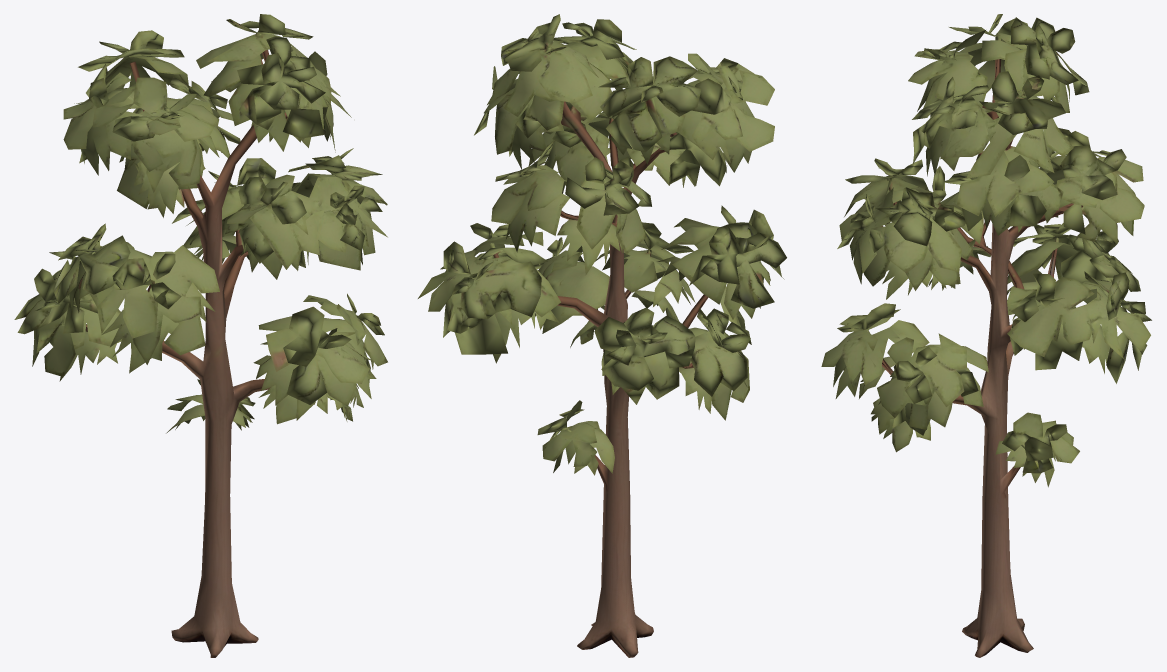
3 views of the same model, side by side, from view 1: azimuth 30°, elevation 25°; view 2: azimuth 150°, elevation 25°; view 3: azimuth 270°, elevation 25° (orthographic). The views are drawn at different scales.
Visible parts, largest first — view 1: tripo_node_b7b04a5f-b9ab-4904-96bd-b885d7f28d6a; view 2: tripo_node_b7b04a5f-b9ab-4904-96bd-b885d7f28d6a; view 3: tripo_node_b7b04a5f-b9ab-4904-96bd-b885d7f28d6a.
Part boxes in pixels (x1,y1,x2,y2): tripo_node_b7b04a5f-b9ab-4904-96bd-b885d7f28d6a: (14, 14, 387, 657); tripo_node_b7b04a5f-b9ab-4904-96bd-b885d7f28d6a: (418, 14, 786, 657); tripo_node_b7b04a5f-b9ab-4904-96bd-b885d7f28d6a: (821, 14, 1151, 657).
Size of the model in its own units: 0.502 by 0.998 by 0.502.
Materials: 1 (1 with a texture image).
